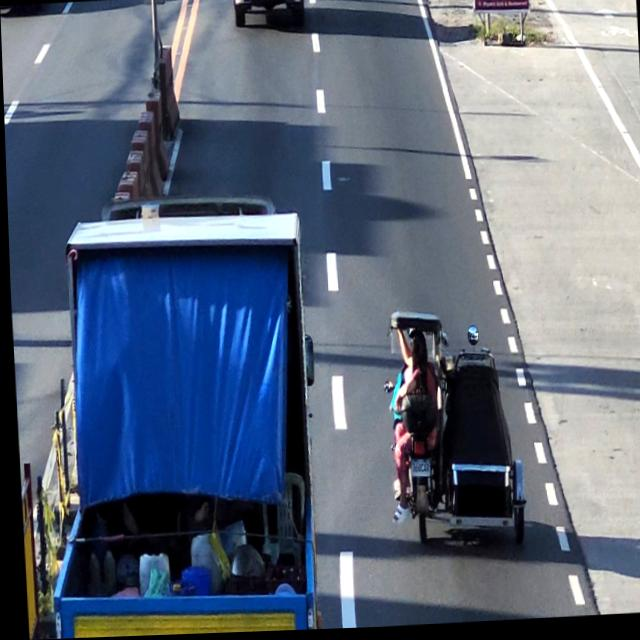Car: (233, 0, 309, 36)
License-Plate: (404, 459, 430, 482)
Tricycle: (377, 307, 528, 563)
Truck: (42, 186, 318, 639)
